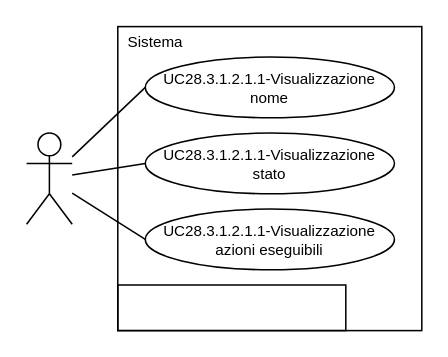
The diagram is 448 pixels wide and 357 high, and some of its shapes have lost their labels. Each missing label, with the centre of its shape:
"UC28.3.1.2.1-Visualizzazione elemento elenco dispositivi" goes at [231,307].
"Utente" goes at [48,177].
